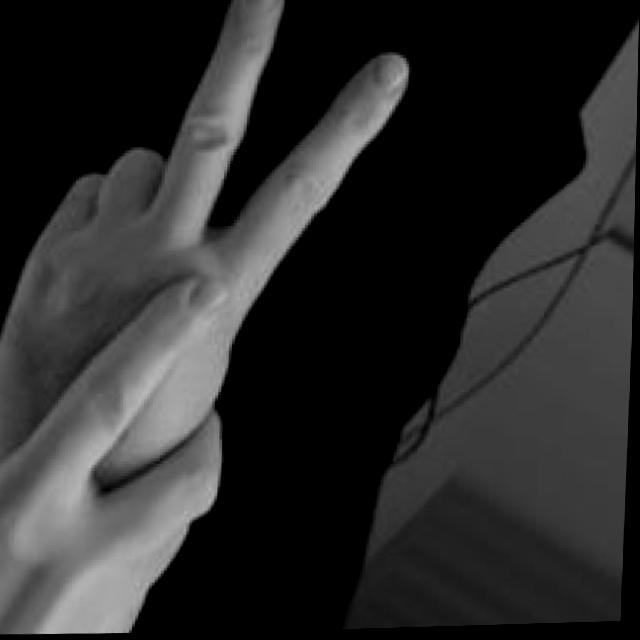Y: (0, 0, 417, 640)
